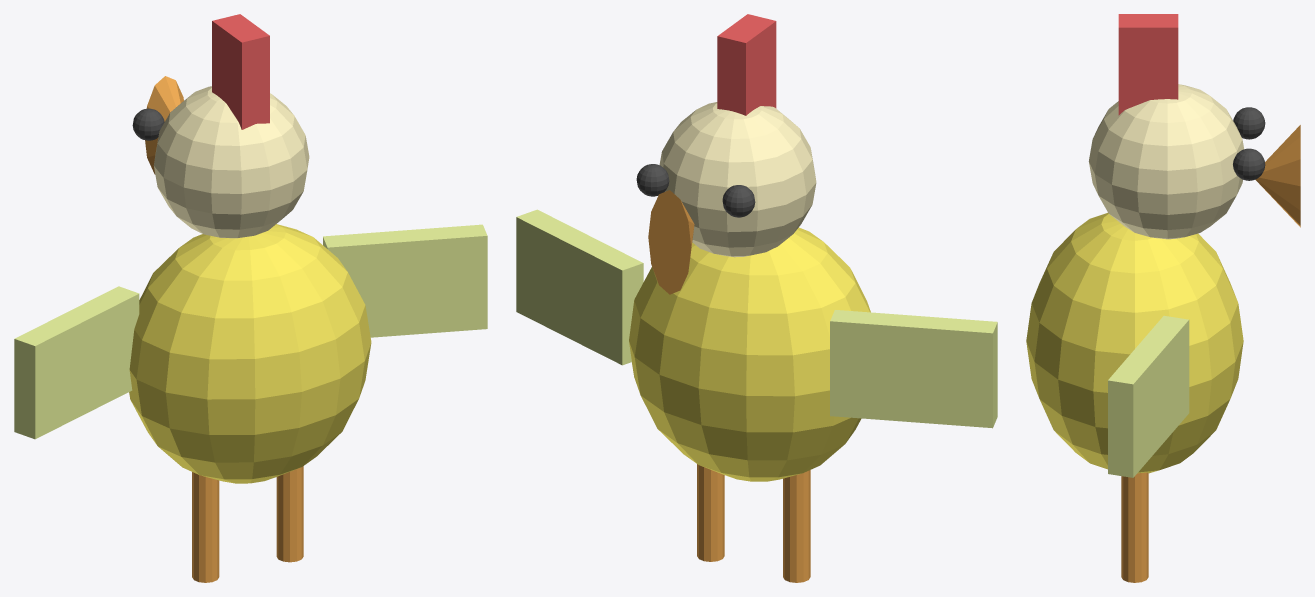
The model's file is pajaro_campana_stylized_v1.glb.
3 views of the same model, side by side, from view 1: azimuth 30°, elevation 25°; view 2: azimuth 150°, elevation 25°; view 3: azimuth 270°, elevation 25° (orthographic).
Visible parts, largest first — view 1: Body, Head, ArmR, ArmL, Crest, LegL, LegR, Beak, EyeL; view 2: Body, ArmL, Head, ArmR, Crest, Beak, LegL, LegR, EyeL, EyeR; view 3: Body, Head, ArmR, Crest, LegR, Beak, EyeR, EyeL.
Boxes of the visible parts, box(x1,y1,x2,y2) form: Body: box(129, 224, 371, 483); Head: box(153, 86, 309, 238); ArmR: box(323, 224, 487, 337); ArmL: box(14, 286, 139, 439); Crest: box(212, 14, 269, 129); LegL: box(192, 472, 219, 582); LegR: box(276, 466, 303, 562); Beak: box(145, 76, 183, 174); EyeL: box(132, 108, 164, 140); Body: box(629, 227, 870, 481); ArmL: box(830, 310, 997, 428); Head: box(659, 102, 816, 257); ArmR: box(516, 209, 643, 365); Crest: box(717, 14, 776, 115); Beak: box(648, 190, 694, 294); LegL: box(783, 470, 810, 582); LegR: box(697, 464, 724, 561); EyeL: box(722, 185, 755, 217); EyeR: box(636, 164, 669, 196); Body: box(1026, 212, 1243, 473); Head: box(1088, 84, 1243, 239); ArmR: box(1108, 315, 1189, 477); Crest: box(1118, 14, 1178, 115); LegR: box(1121, 472, 1148, 582); Beak: box(1255, 125, 1300, 227); EyeR: box(1233, 148, 1265, 180); EyeL: box(1233, 107, 1265, 139).
Bounding box in the file's own units: 2 × 2.18 × 1.01.
